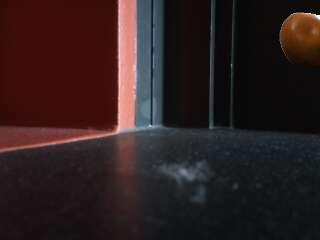Potato: (278, 11, 320, 69)
